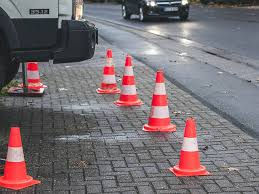car: (121, 1, 190, 22)
cone: (1, 127, 42, 190), (144, 70, 178, 131), (172, 116, 204, 178), (115, 55, 142, 106), (98, 48, 120, 93), (22, 62, 47, 89)
